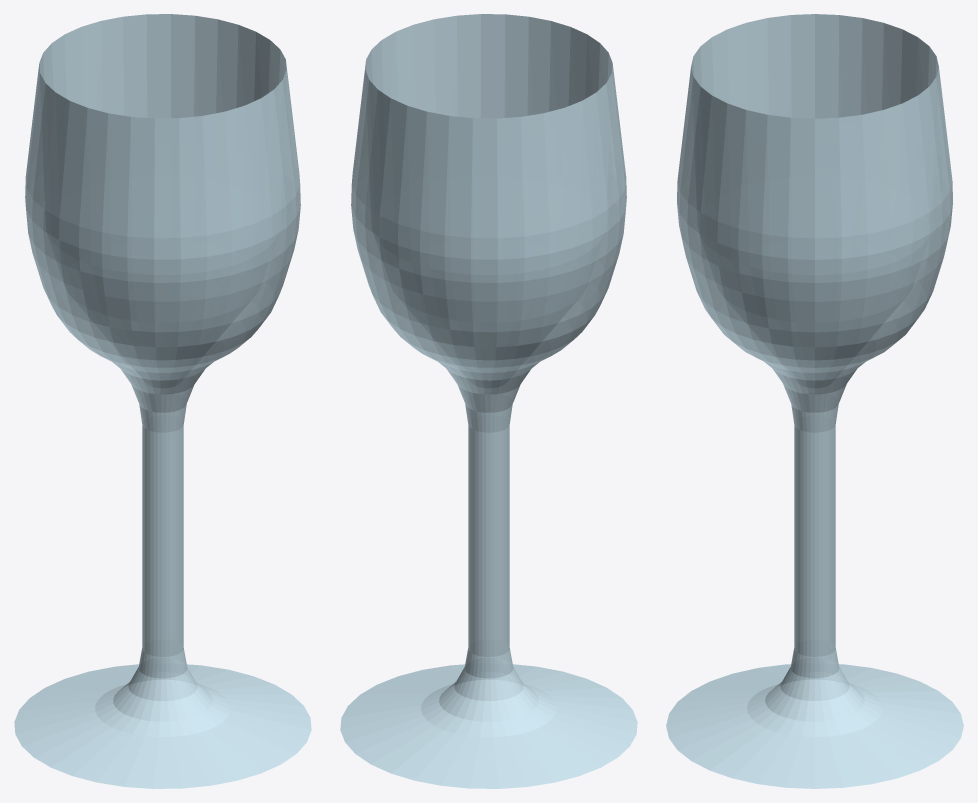
Rendered from WineCup.dae.
3 renders of one model, left to right at view 1: azimuth 30°, elevation 25°; view 2: azimuth 150°, elevation 25°; view 3: azimuth 270°, elevation 25°, orthographic.
Visible parts, largest first — view 1: Cylinder.003; view 2: Cylinder.003; view 3: Cylinder.003.
Boxes of the visible parts, bbox=[...] form: Cylinder.003: bbox=[14, 14, 311, 788]; Cylinder.003: bbox=[340, 14, 637, 788]; Cylinder.003: bbox=[666, 14, 963, 788].
Size of the model in its own units: 0.108 by 0.108 by 0.264.
